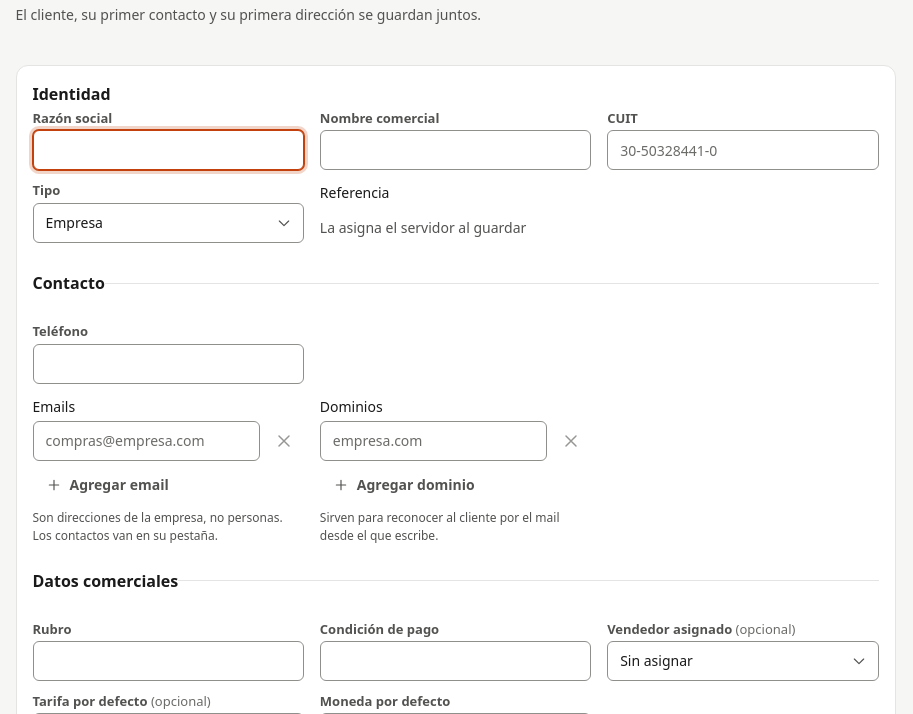
it: Alta de cliente · contacto y dirección opcionales › un contacto a medias no llega al servidor
Type "ZZ Cliente Nuevo SA" into the field labelled "Razón social" at (168, 150), box [32,130,304,170]
(page scrolled)
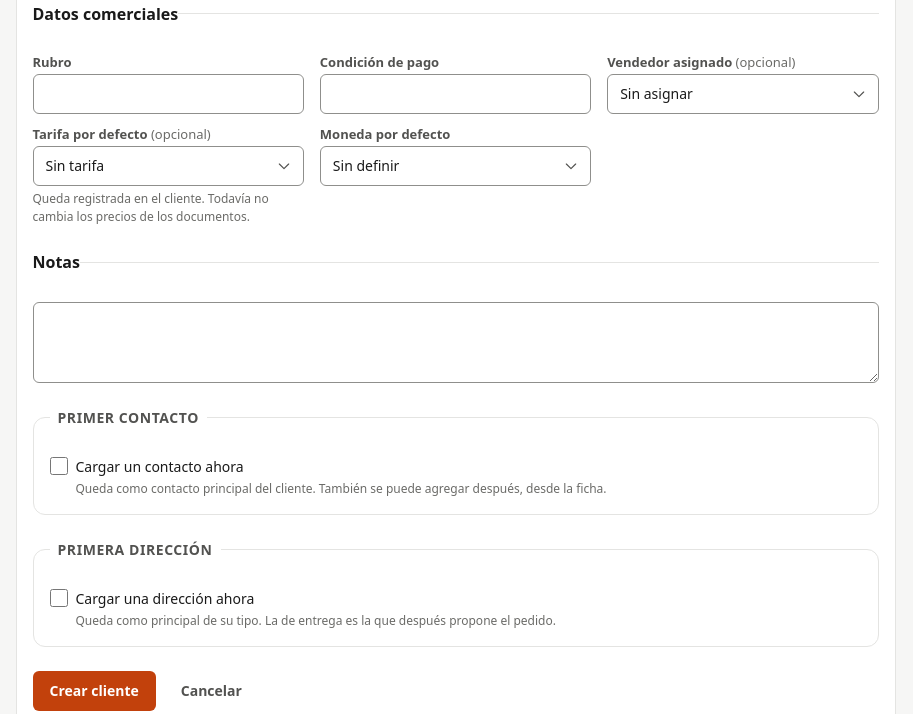
Click the checkbox labelled "Cargar un contacto ahora" at (58, 466), box [50,457,68,475]
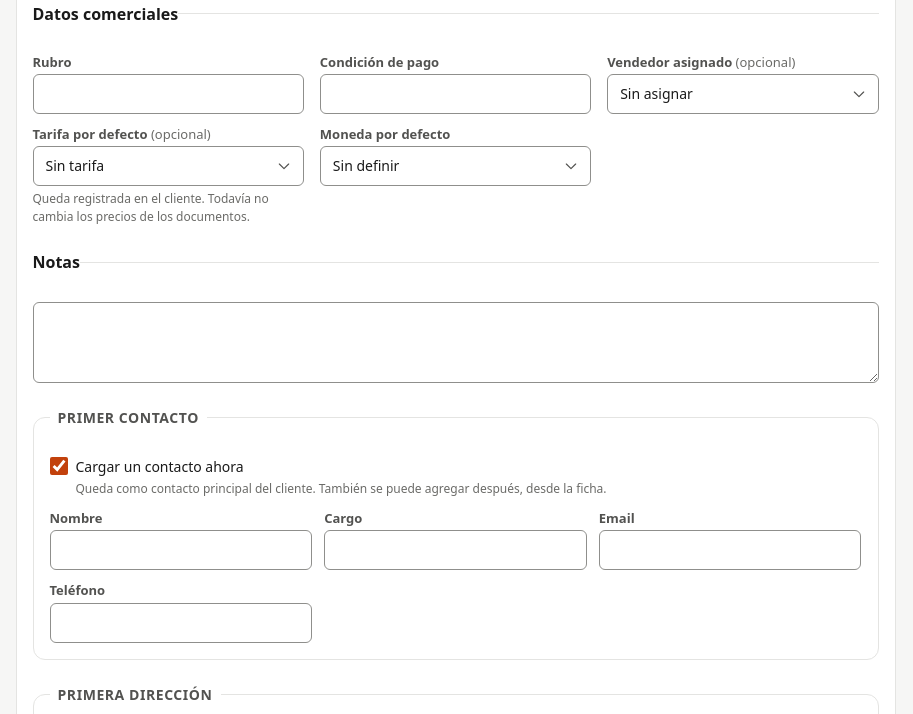
Type "Compras" into the field labelled "Cargo" at (456, 550), box [324,530,587,570]
(page scrolled)
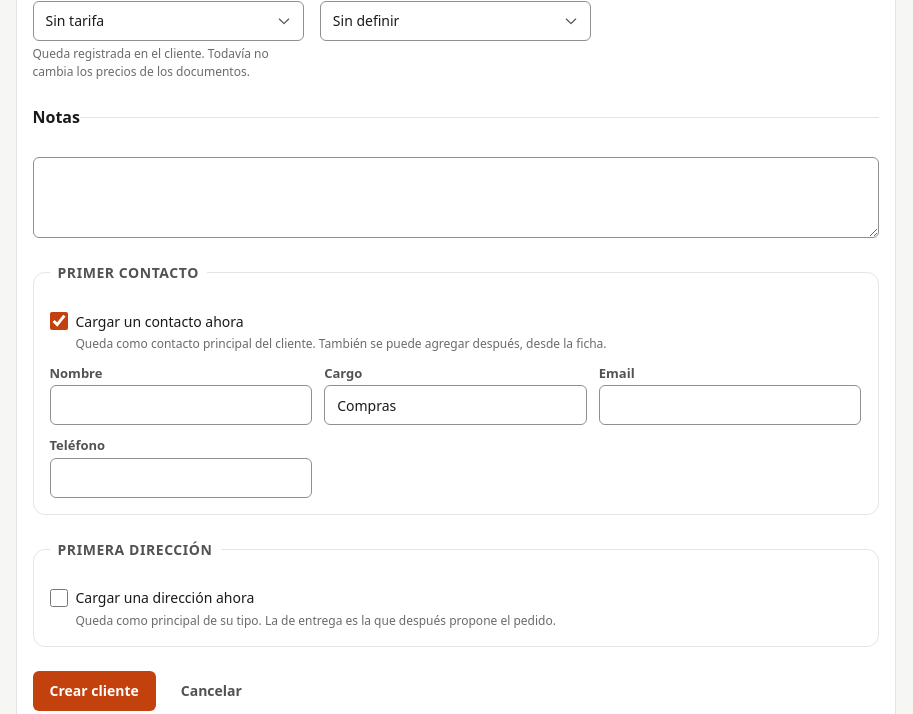
Click the button "Crear cliente" at (94, 690), box [32,670,156,710]
(page scrolled)
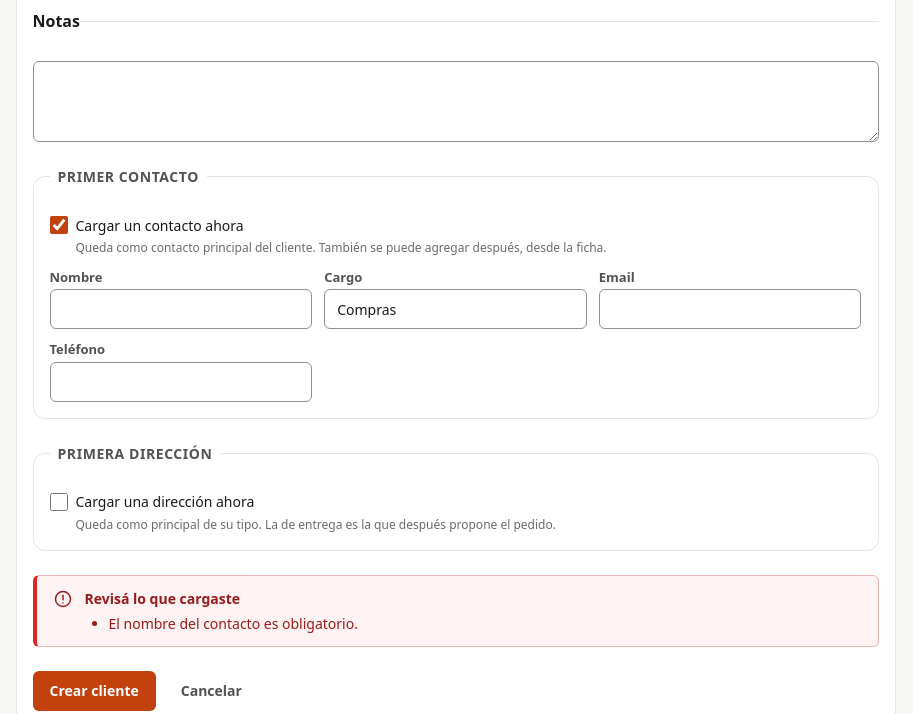
Check: the list item "El nombre del contacto es obligatorio." is shown, box [108,614,358,632]
